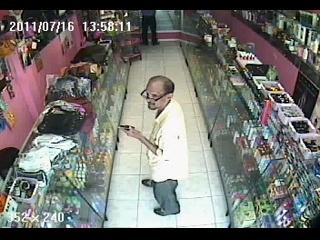Normal: (122, 75, 190, 216), (140, 10, 160, 46)
